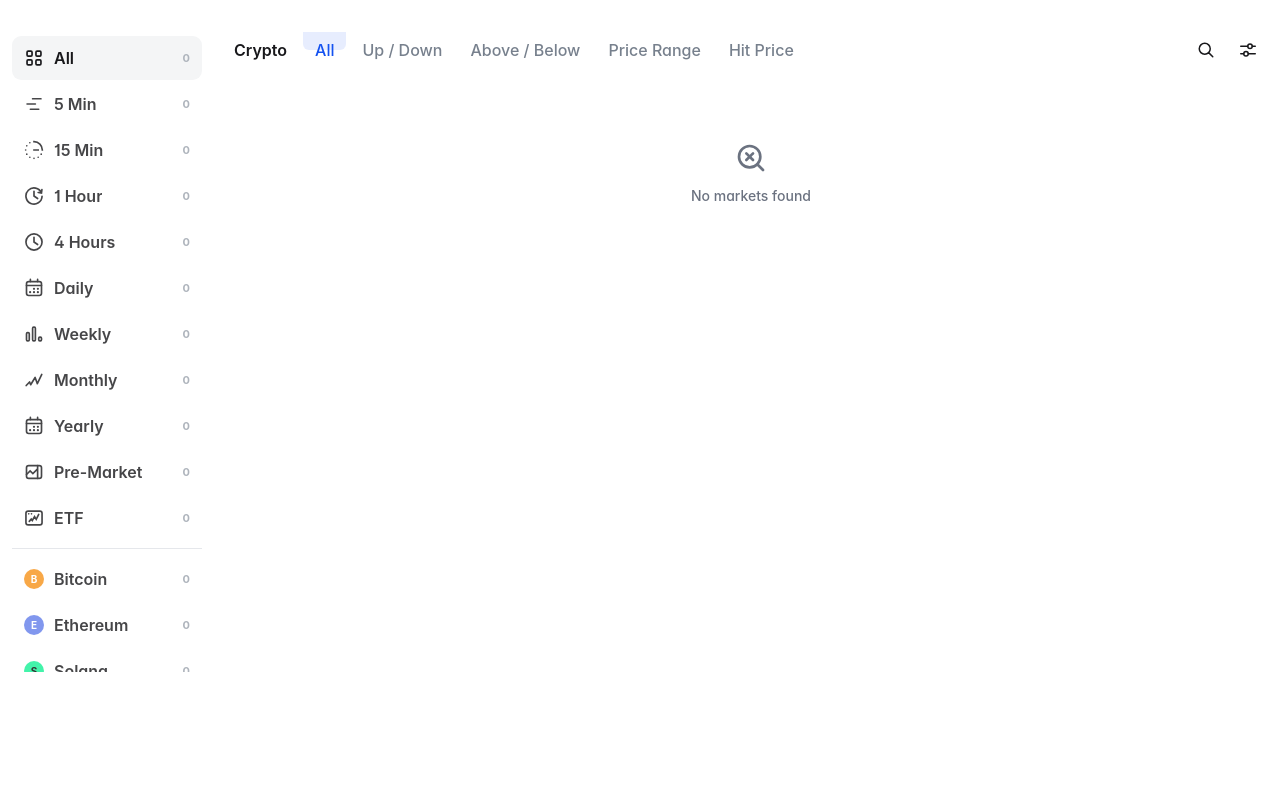
Test: CryptoPageView › opens the sort filter menu from the 24hr Volume chip
Click the button named "Toggle filters" at (1248, 50), box 1228,30 -> 1268,70
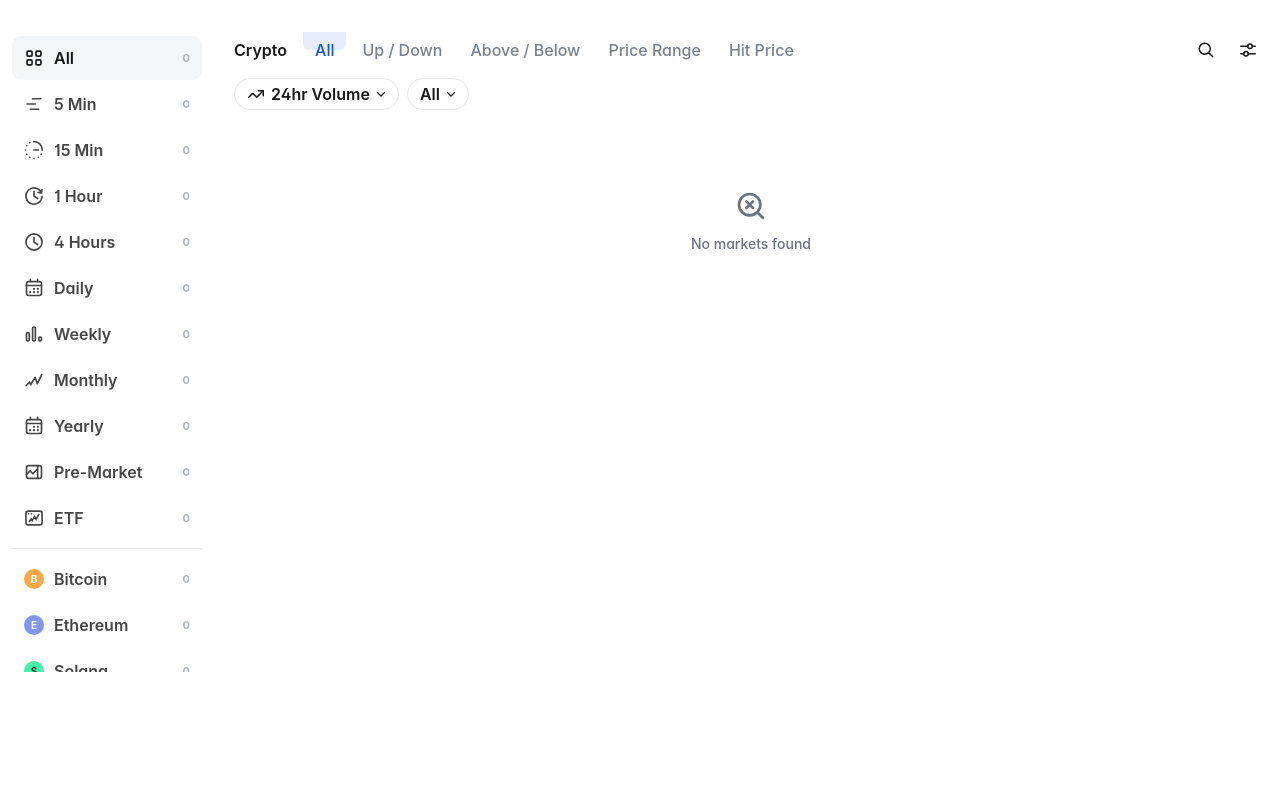
Click the button "24hr Volume" at (316, 94), box 234,78 -> 399,110
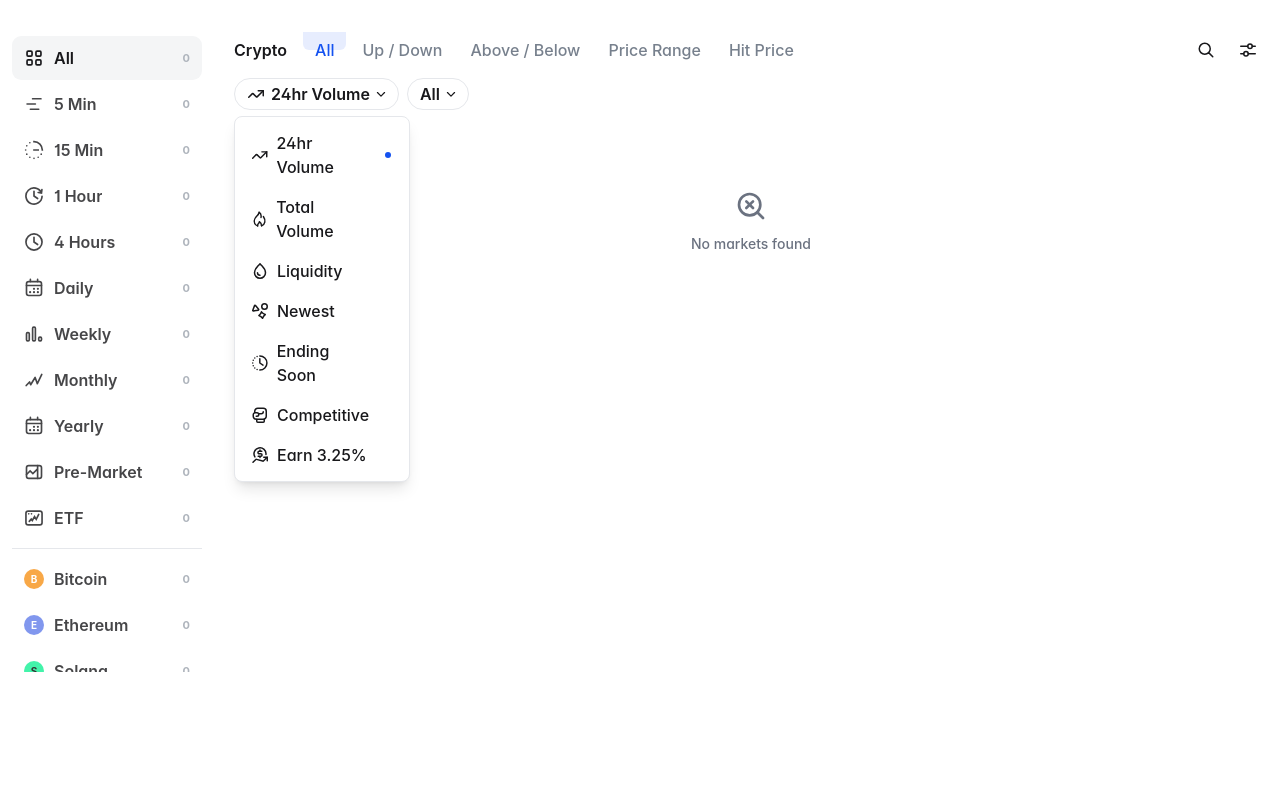
Expected: the menu item "24hr Volume" is shown, 241,123 -> 403,187
Expected: the menu item "Total Volume" is shown, 241,187 -> 403,251
Expected: the menu item "Liquidity" is shown, 241,251 -> 403,291
Click the menu item "Newest" at (322, 311), box 241,291 -> 403,331
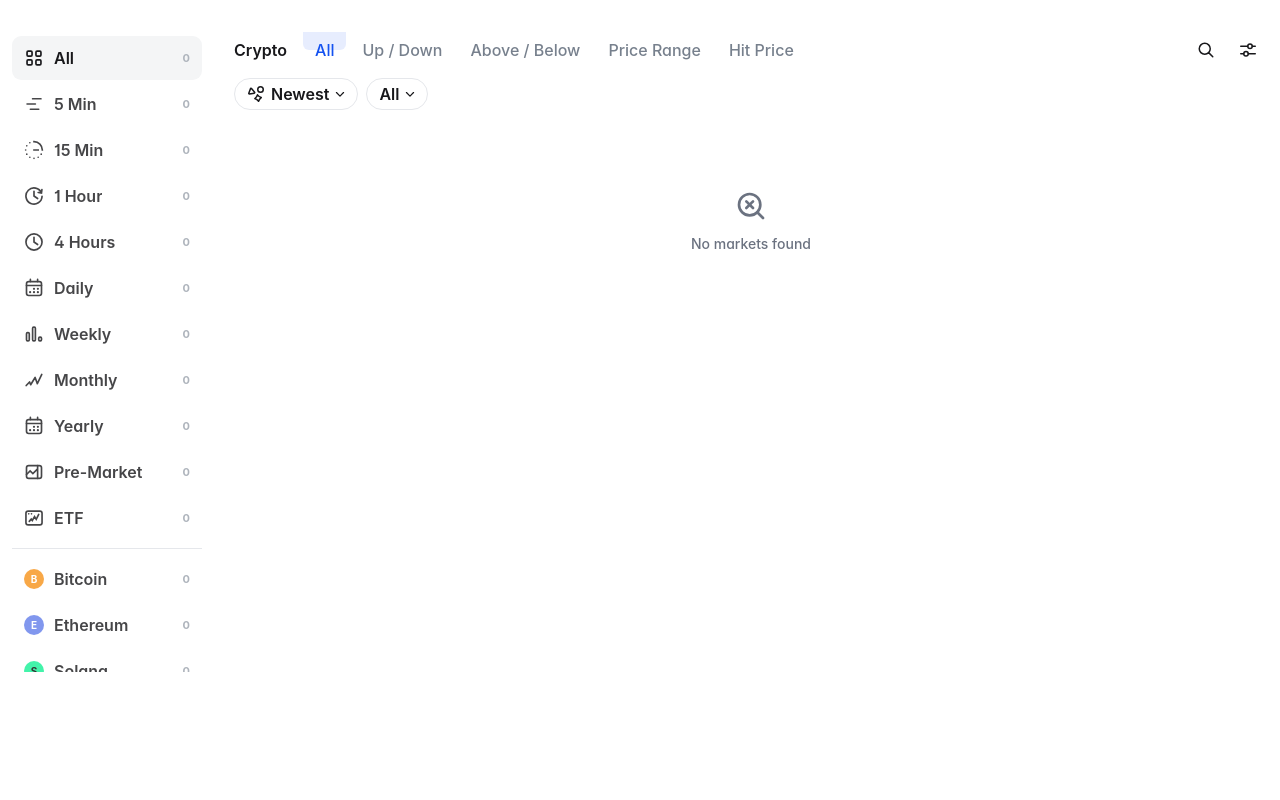
Expected: the menu is gone
Expected: the button "Newest" is shown, 234,78 -> 358,110
